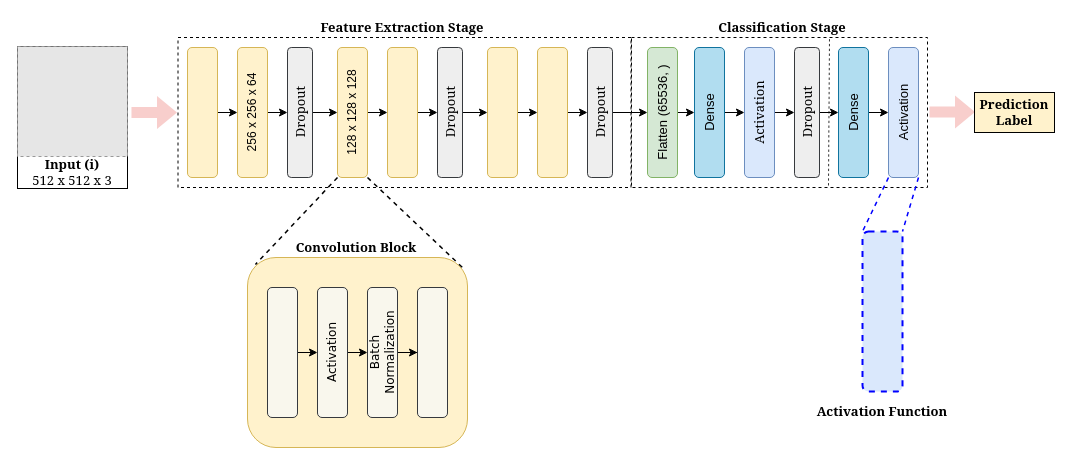
This 1072x465 diagram has some shape labels left out. Grey dashed boxes stand in for pictures. The box of each missing label's shape, as (x1, y1, x2, y2) in pixels:
16 x 16 x 256: (536, 46, 568, 178)
32 x 32 x 256: (486, 46, 518, 178)
512 x 512 x 32: (186, 46, 218, 178)
64 x 64 x 128: (386, 46, 418, 178)
Max Pooling: (416, 286, 448, 418)
Separable Convolution: (266, 286, 298, 418)
Softmax (multiclass classification): (861, 230, 903, 392)
